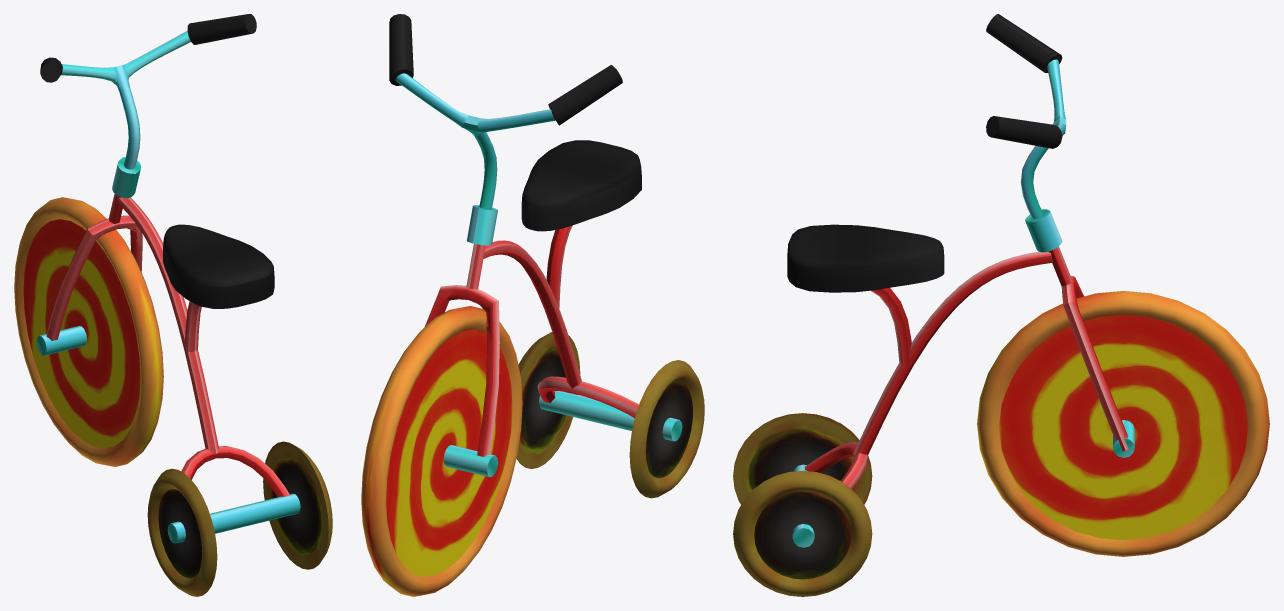
File: bike.FBX
3 views of the same model, side by side, from view 1: azimuth 30°, elevation 25°; view 2: azimuth 150°, elevation 25°; view 3: azimuth 270°, elevation 25° (orthographic). The views are drawn at different scales.
Visible parts, largest first — view 1: bike; view 2: bike; view 3: bike.
Boxes of the visible parts, x1,y1,x2,y2 form: bike: [14, 14, 332, 596]; bike: [361, 14, 704, 596]; bike: [733, 14, 1269, 596].
Size of the model in its own units: 43.39 by 88.05 by 90.9.
Materials: 14 (14 with a texture image).
